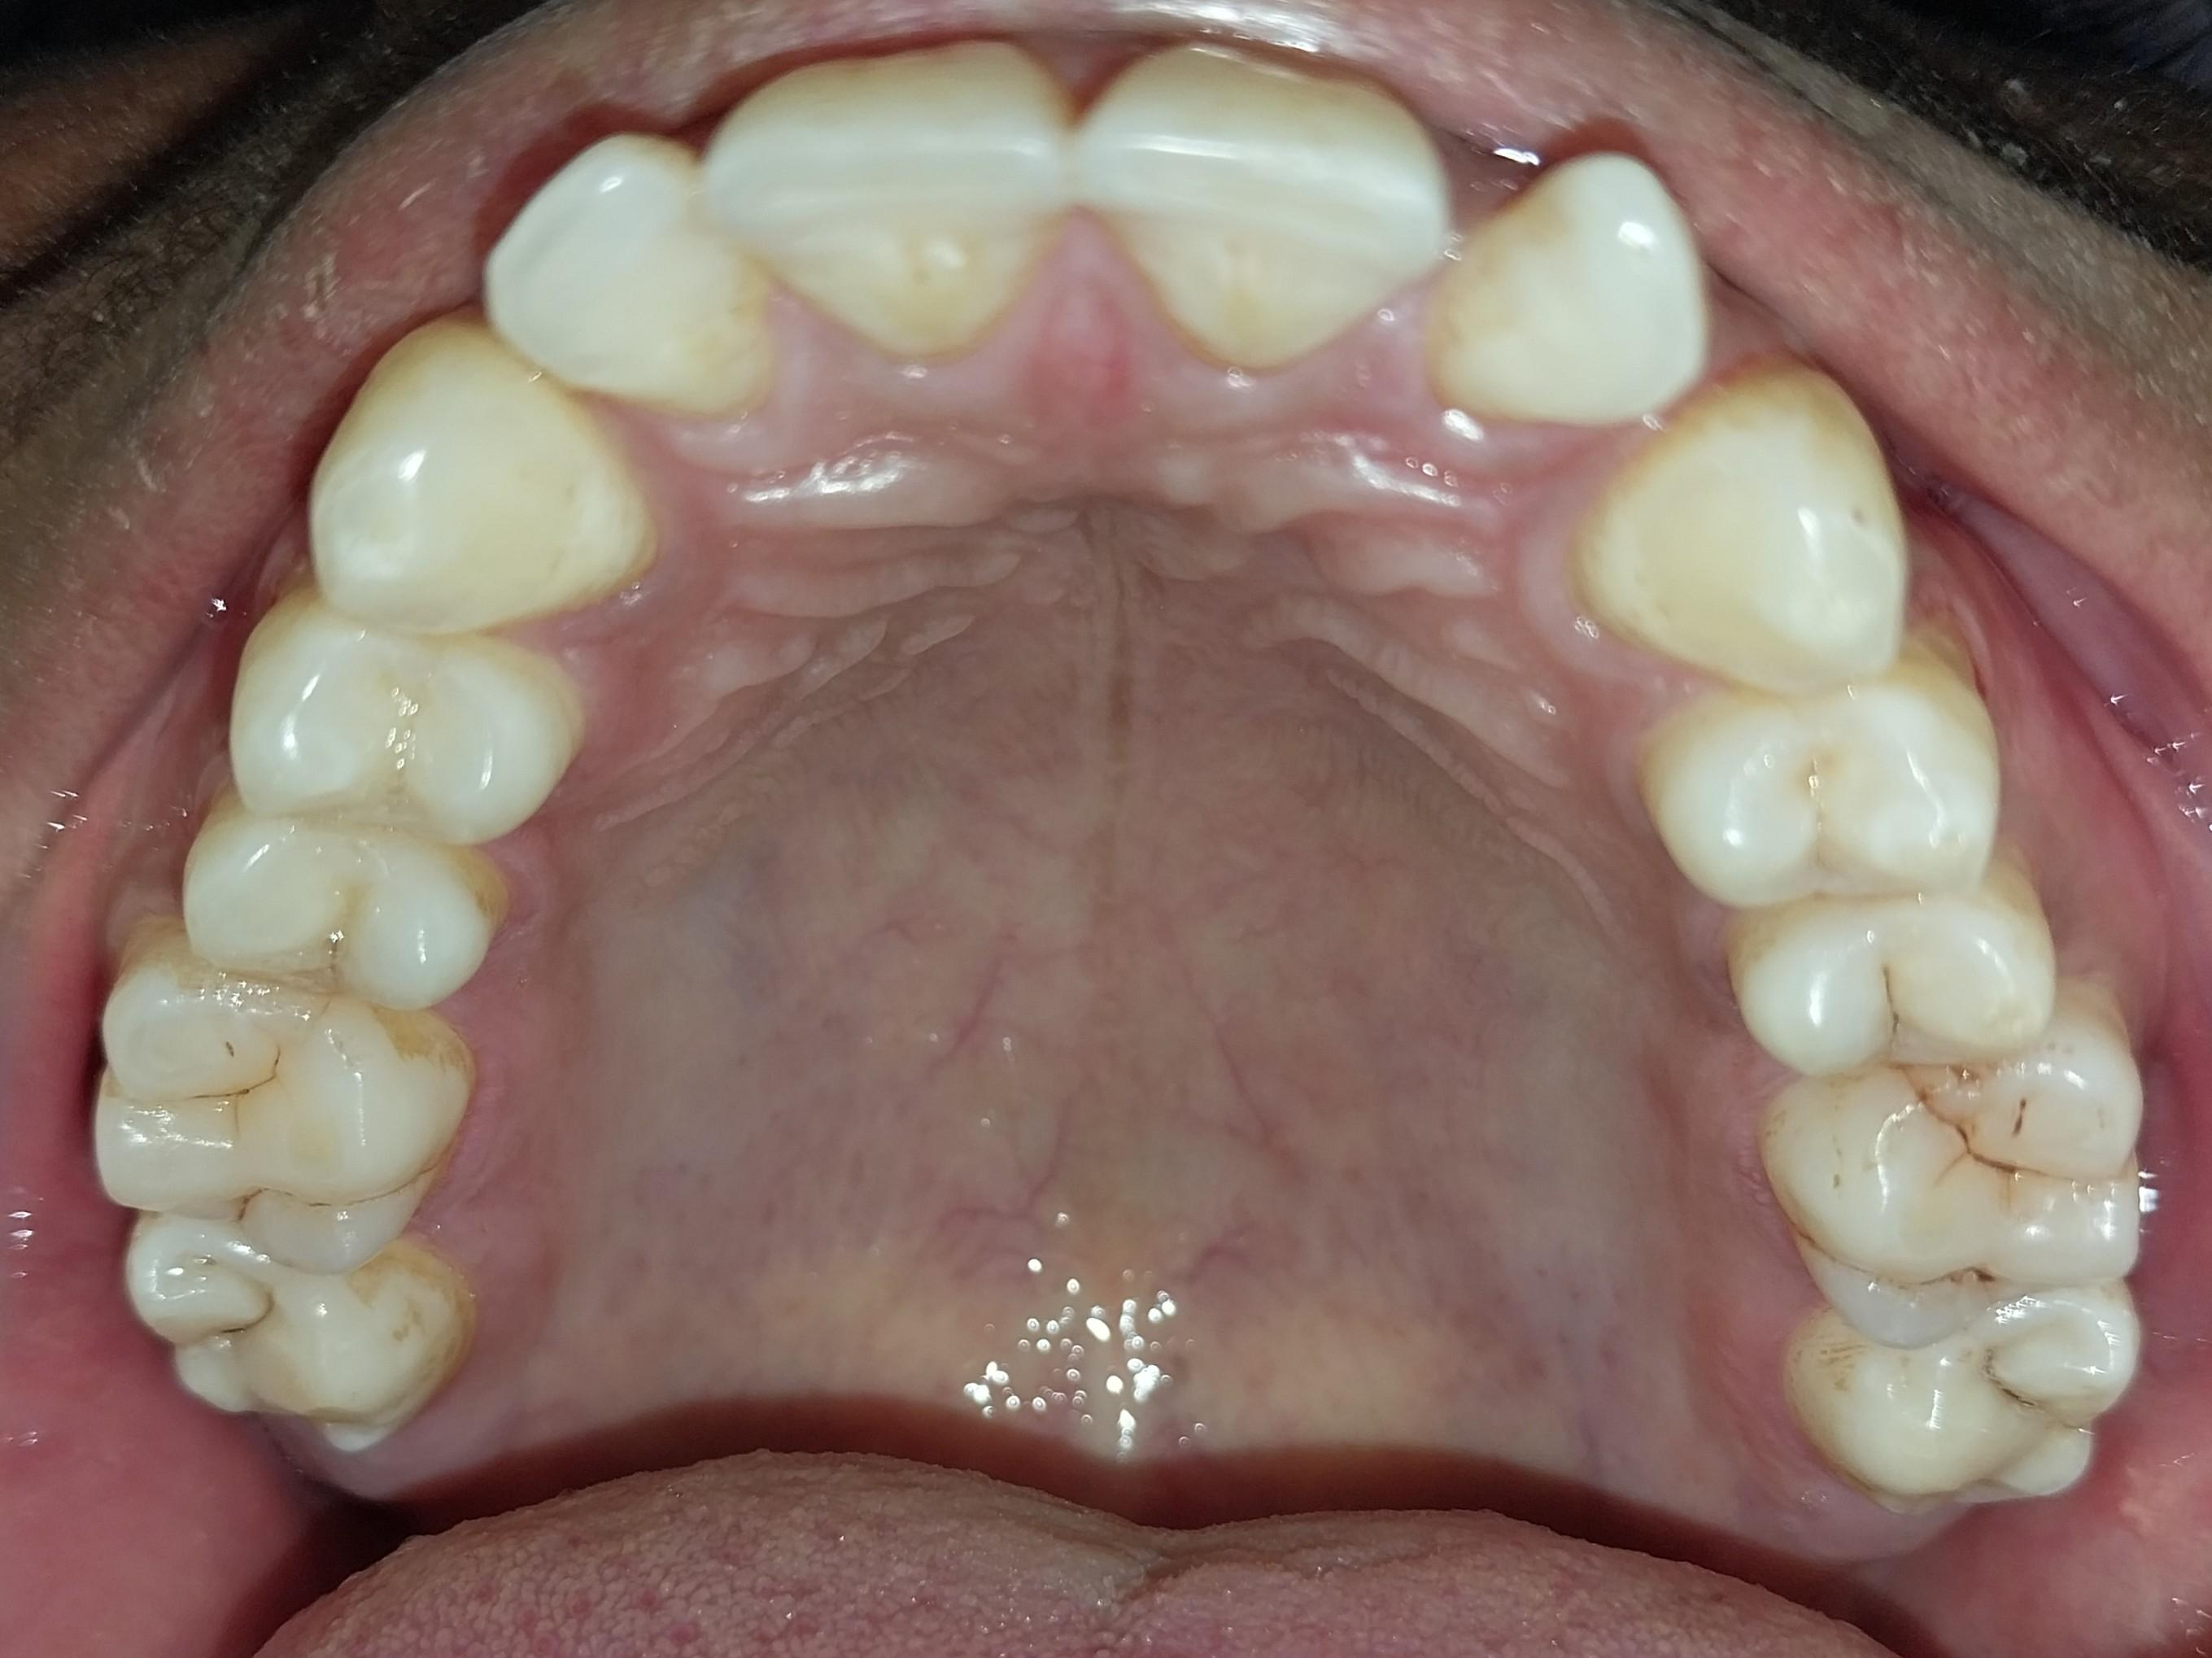D: (1765, 1030, 2147, 1350), (121, 1216, 474, 1459), (1788, 1296, 2137, 1514), (179, 798, 506, 1016), (1730, 897, 2068, 1071)
